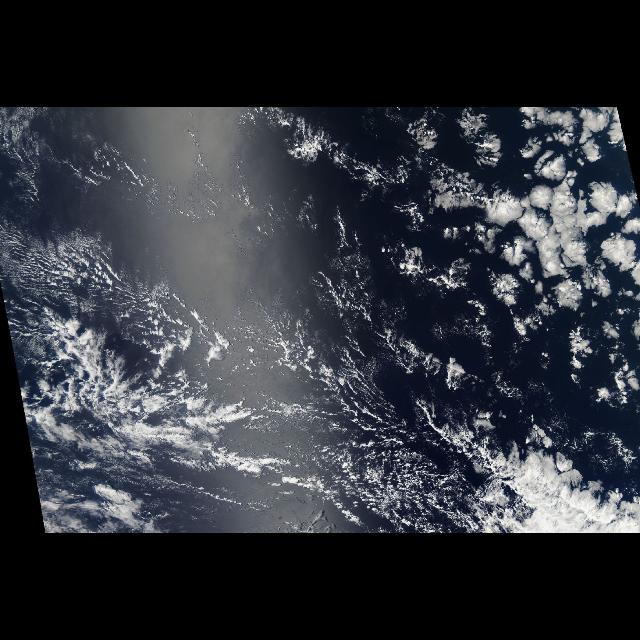Fish: (2, 217, 338, 485)
Flower: (377, 109, 639, 413)
